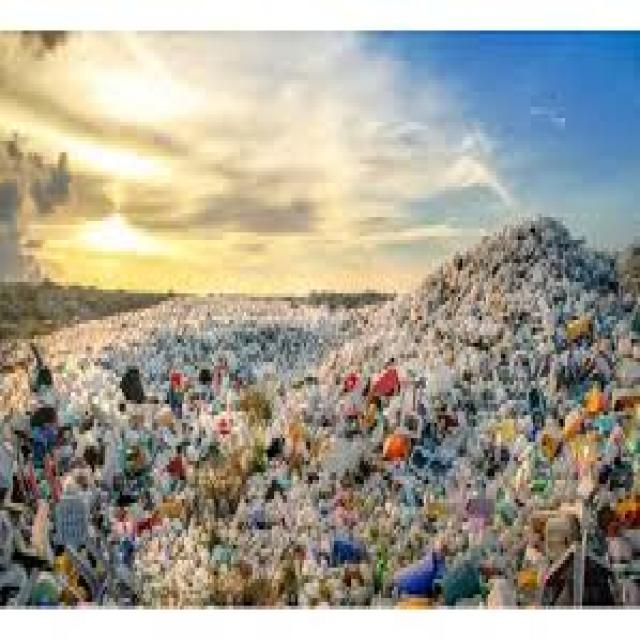heap: (87, 336, 614, 607)
